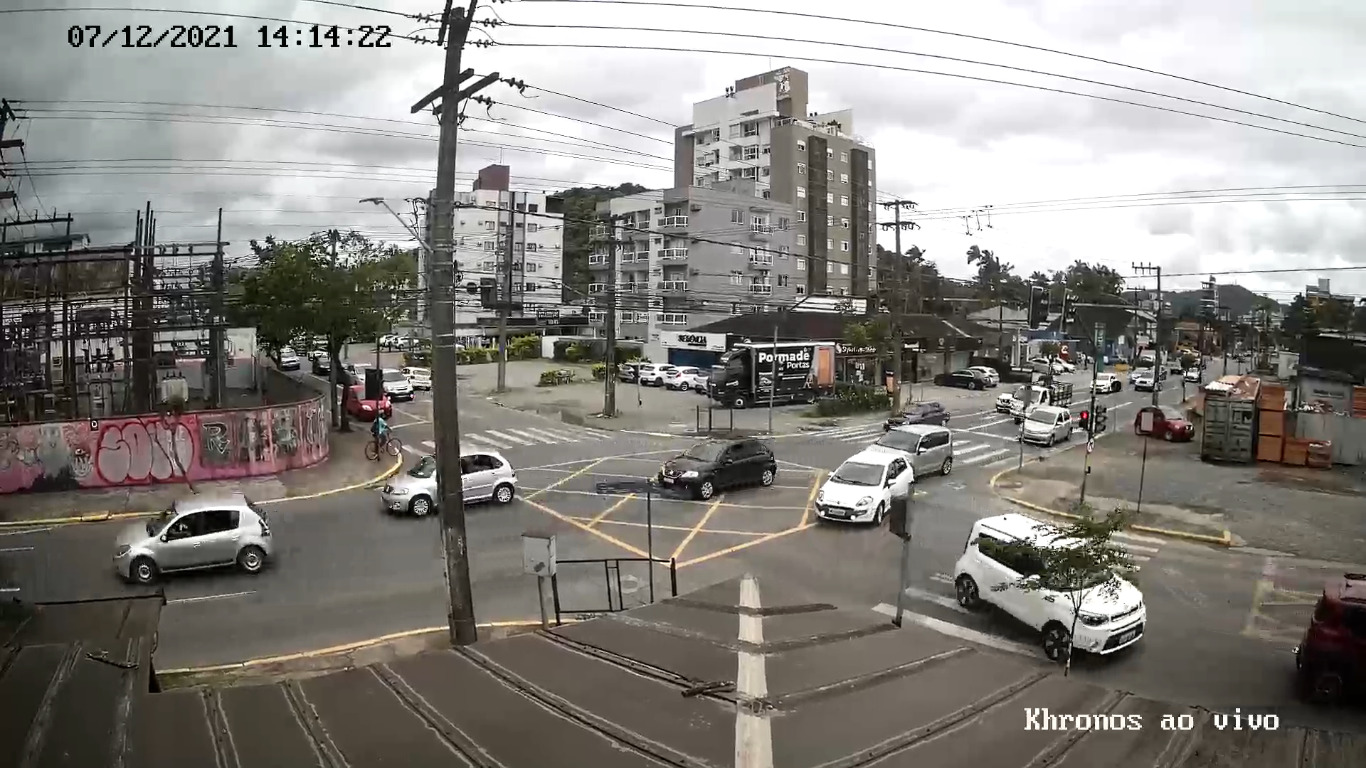car: (954, 513, 1146, 664), (113, 492, 273, 586), (381, 446, 519, 516), (813, 450, 914, 526), (659, 434, 777, 499)
